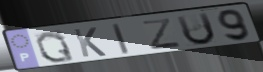9: (215, 9, 254, 43)
I: (110, 22, 132, 56)
K: (71, 26, 109, 59)
Q: (34, 30, 77, 64)
U: (174, 11, 217, 47)
Z: (140, 17, 184, 51)
